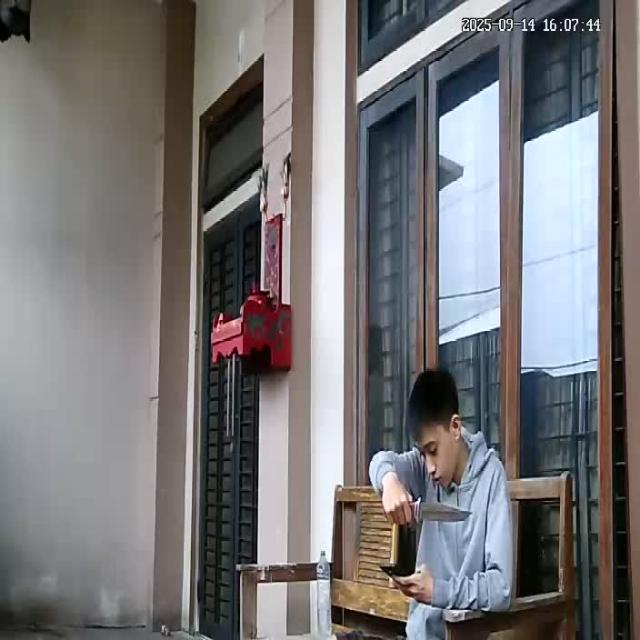senjata_tajam: (411, 497, 475, 527)
